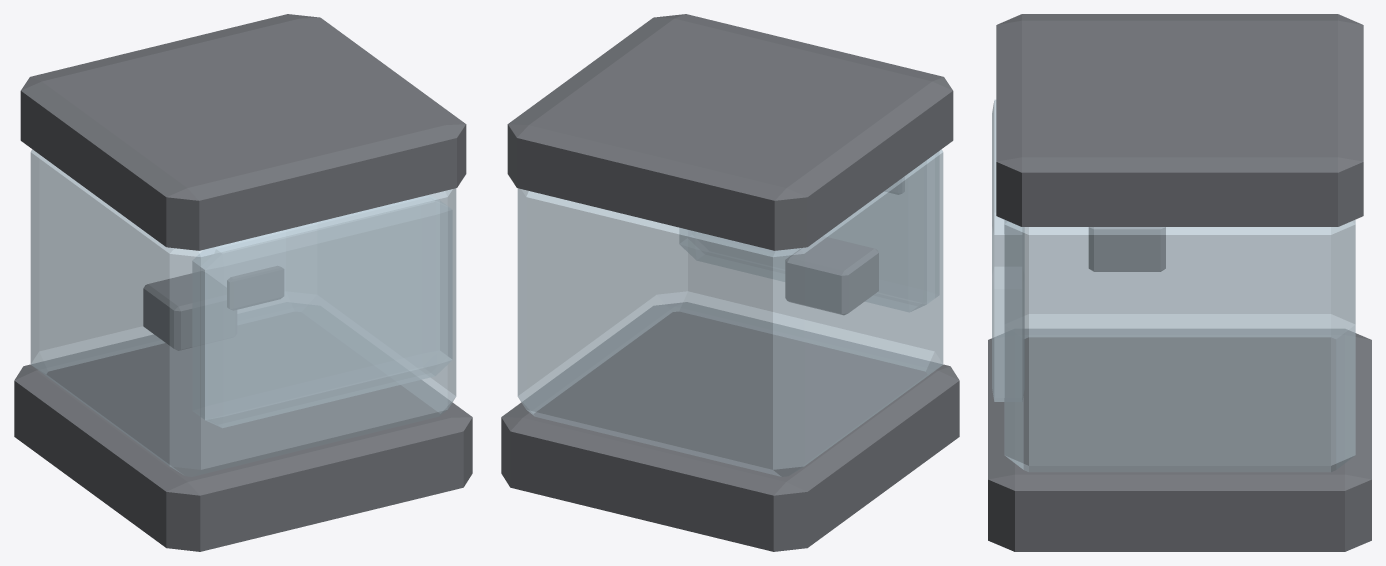
Rendered from b12_revolving_glass_entry.glb.
The picture shows the model from 3 angles, left to right: view 1: azimuth 30°, elevation 25°; view 2: azimuth 150°, elevation 25°; view 3: azimuth 270°, elevation 25°; orthographic projection. The views are drawn at different scales.
Visible parts, largest first — view 1: b12_revolving_glass_entry; view 2: b12_revolving_glass_entry; view 3: b12_revolving_glass_entry.
Boxes of the visible parts, x1=… form: b12_revolving_glass_entry: x1=14, y1=14, x2=472, y2=551; b12_revolving_glass_entry: x1=501, y1=14, x2=959, y2=551; b12_revolving_glass_entry: x1=988, y1=14, x2=1371, y2=551.
Size of the model in its own units: 2.24 by 2.49 by 2.24.
